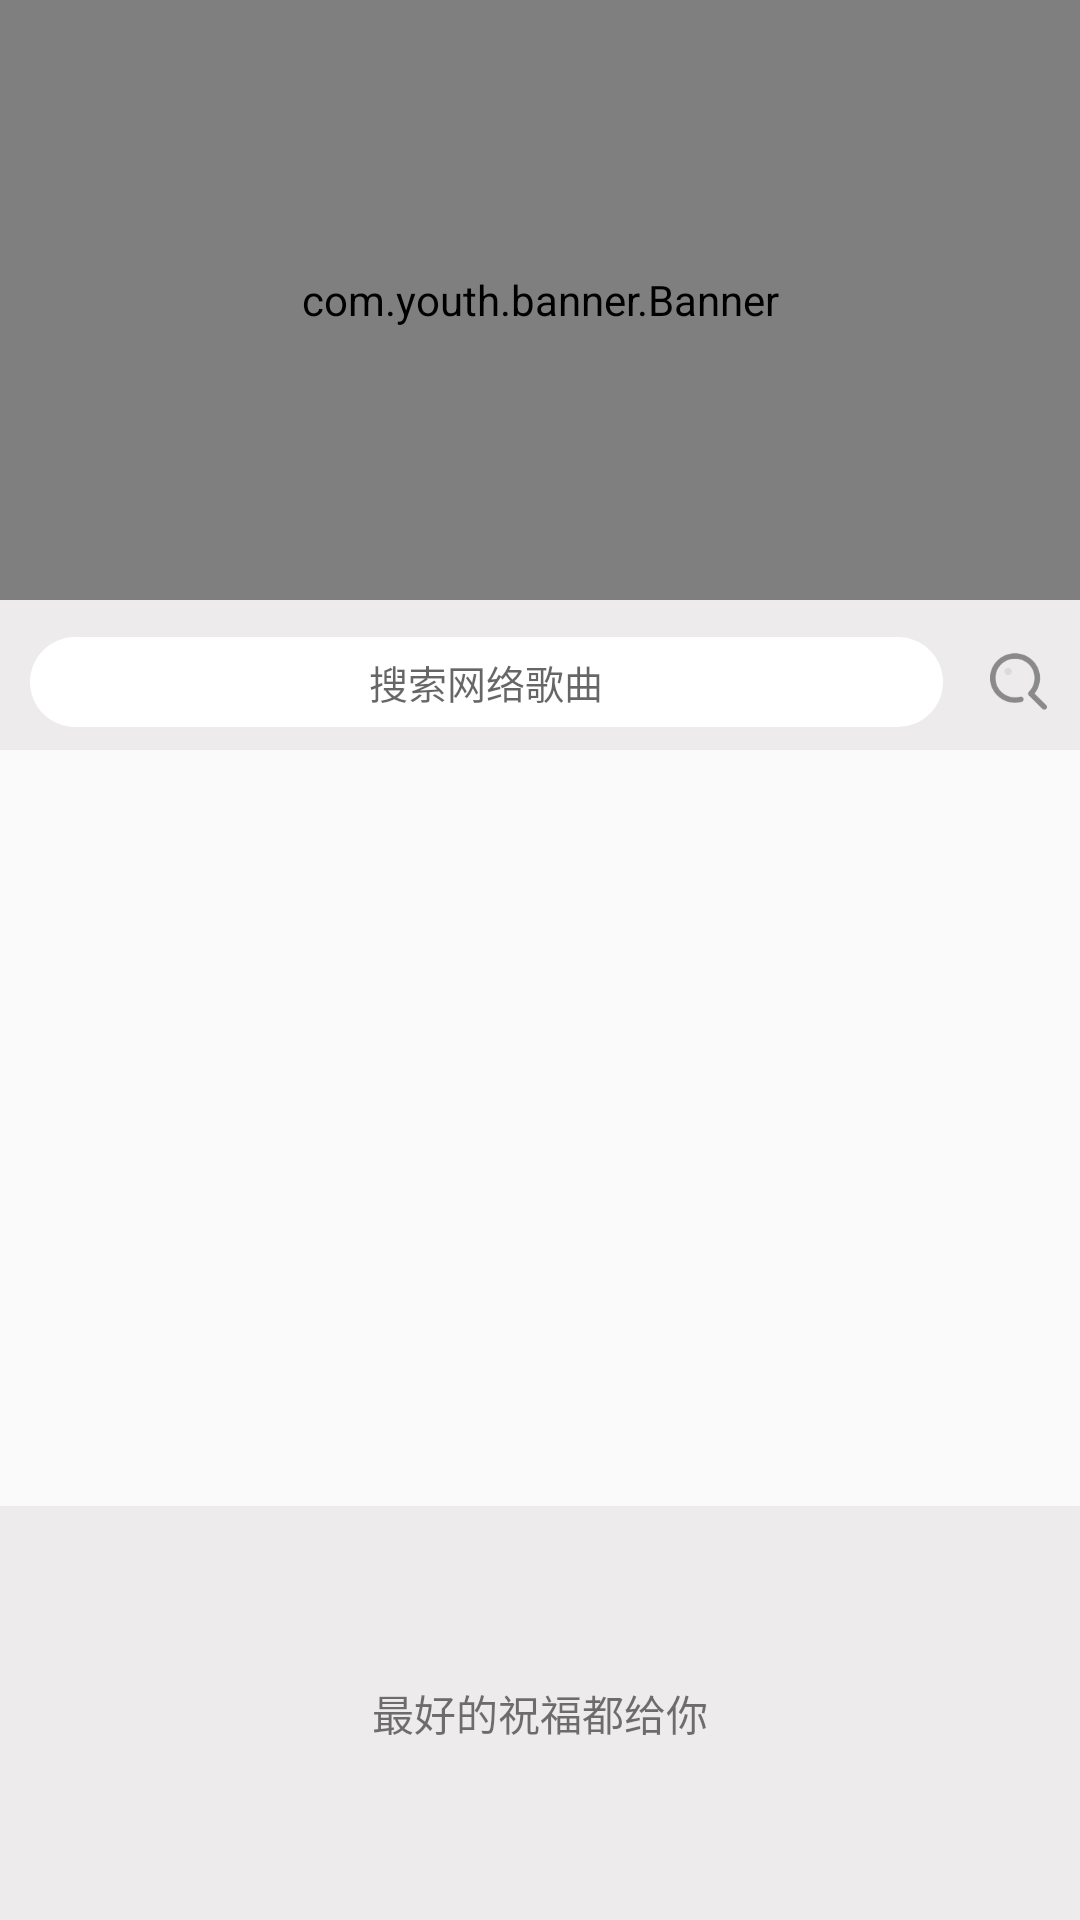

Screen size 1080x1920. Icon name, then its box in pixels as (x1, y1, x2, y2):
find: (990, 653, 1047, 710)
